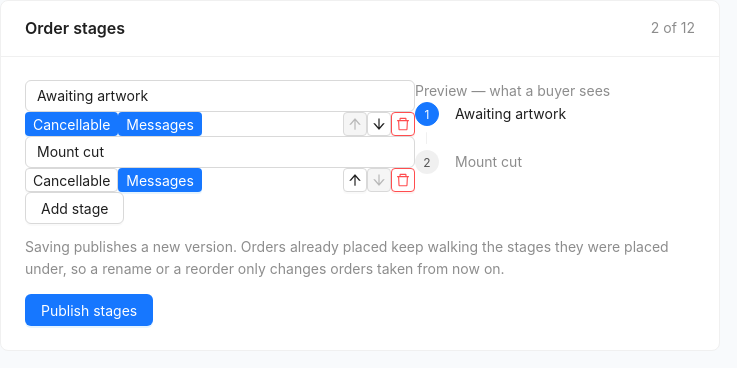
Test: StageEditor › previews the buyer tracker from the stages as edited
The image size is (737, 368).
Replace the text in the field named "Stage 2 name" with "Glazed" at {"x": 220, "y": 152}, box left=25, top=136, right=415, bottom=168
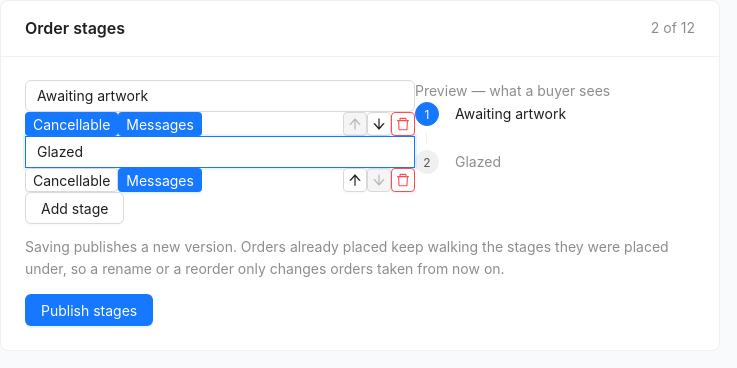
Check: the text "Glazed" is shown, box left=455, top=153, right=501, bottom=170
